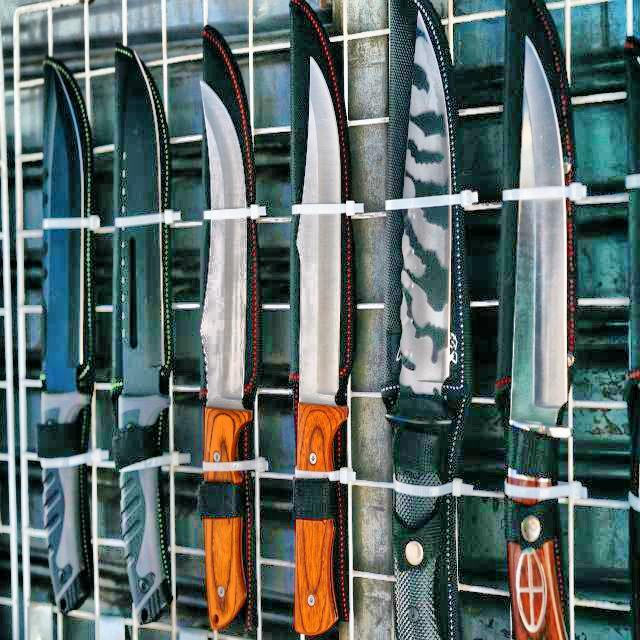knife: (503, 31, 577, 640), (107, 31, 181, 613), (395, 0, 460, 640), (36, 45, 108, 622), (192, 69, 257, 636), (290, 54, 339, 638)
